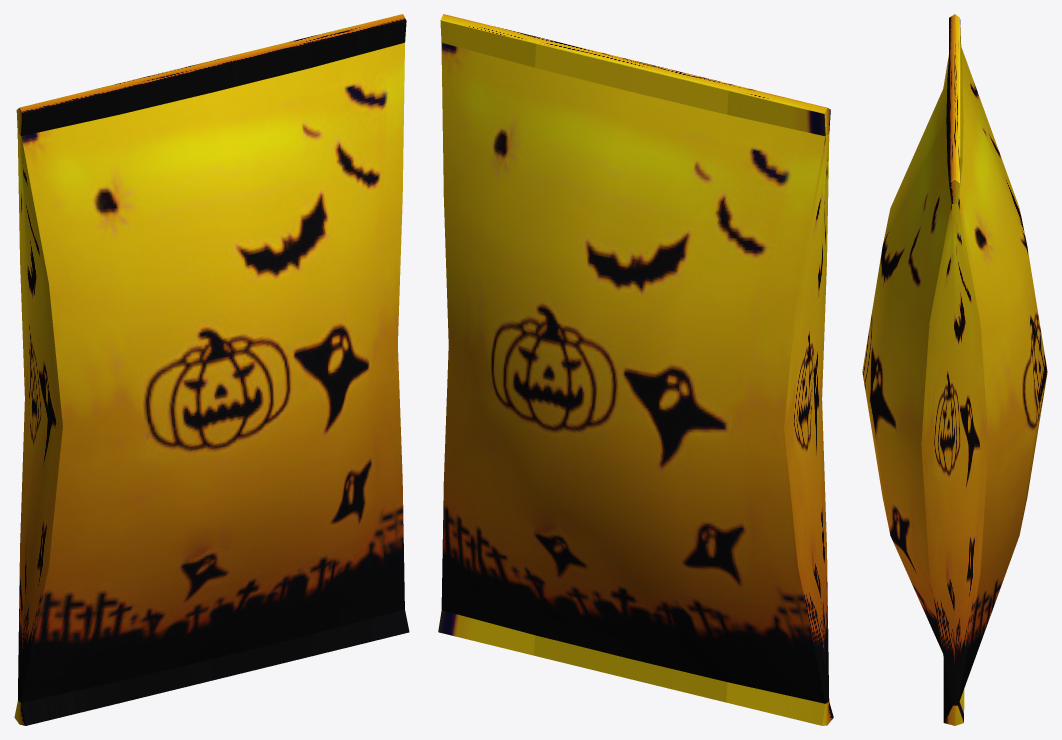
3 views of the same model, side by side, from view 1: azimuth 30°, elevation 25°; view 2: azimuth 150°, elevation 25°; view 3: azimuth 270°, elevation 25° (orthographic). The views are drawn at different scales.
Parts seen in each view (by area): view 1: 3-5; view 2: 3-5; view 3: 3-5.
Boxes of the visible parts, bbox=[...] form: 3-5: bbox=[14, 14, 409, 725]; 3-5: bbox=[438, 14, 833, 725]; 3-5: bbox=[862, 14, 1047, 725].
Bounding box in the file's own units: 19.98 × 30.71 × 9.44.
